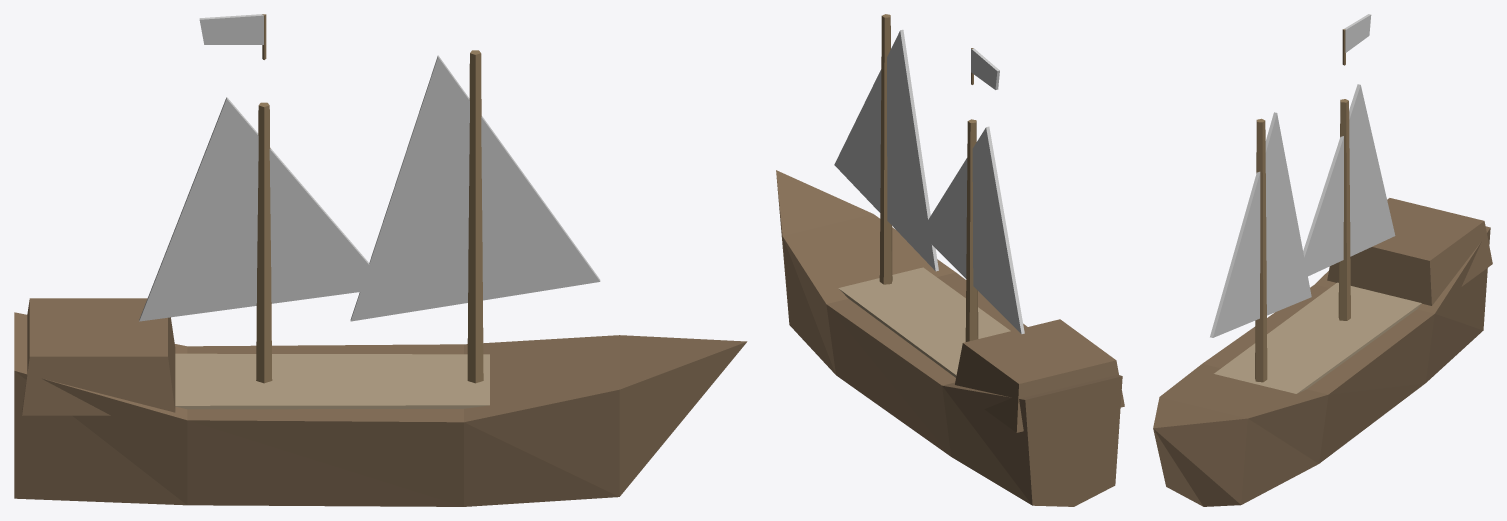
The model's file is caravel.glb.
3 views of the same model, side by side, from view 1: azimuth 30°, elevation 25°; view 2: azimuth 150°, elevation 25°; view 3: azimuth 270°, elevation 25° (orthographic). The views are drawn at different scales.
Parts seen in each view (by area): view 1: LOD0; view 2: LOD0; view 3: LOD0.
Boxes of the visible parts, x1,y1,x2,y2 form: LOD0: [14, 14, 747, 506]; LOD0: [776, 14, 1124, 506]; LOD0: [1153, 14, 1492, 506].
Size of what is drawn, in the model's own units: 1.74 by 1.36 by 1.12.
